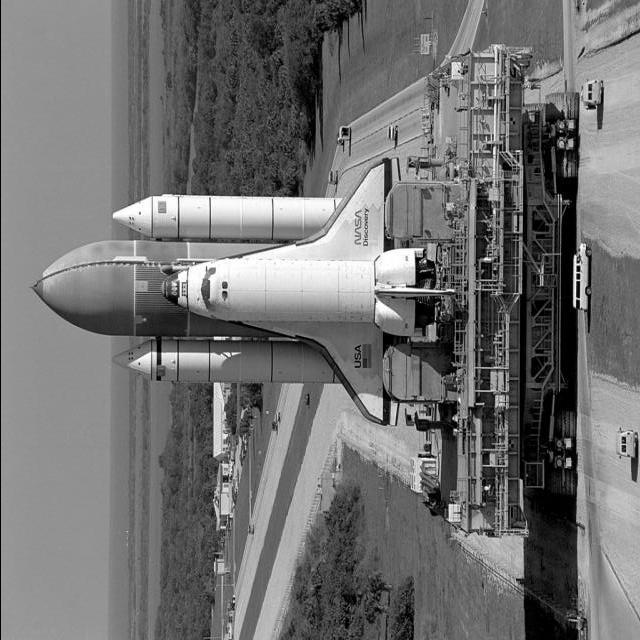missile: (100, 184, 344, 247), (113, 339, 341, 396)
